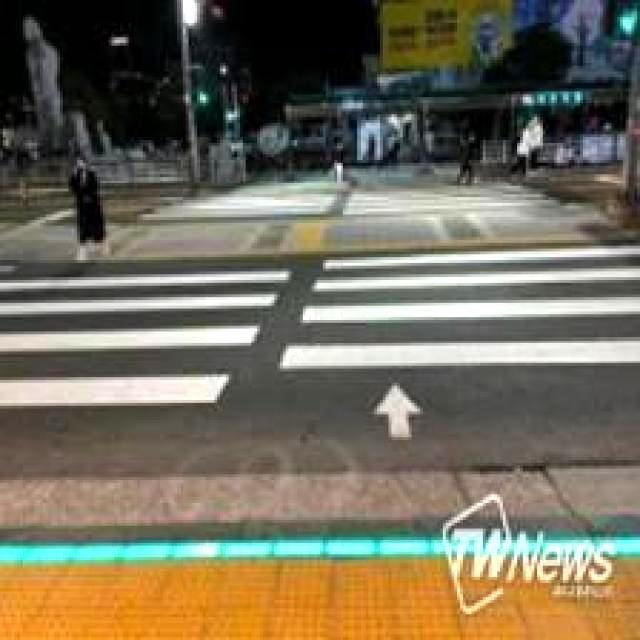crosswalk: (0, 242, 480, 556)
